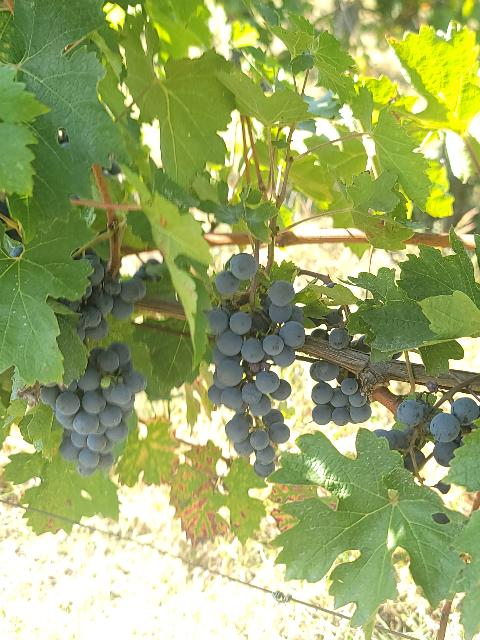grapes: (206, 252, 305, 479), (40, 342, 146, 476), (310, 360, 371, 426), (311, 309, 371, 352)
